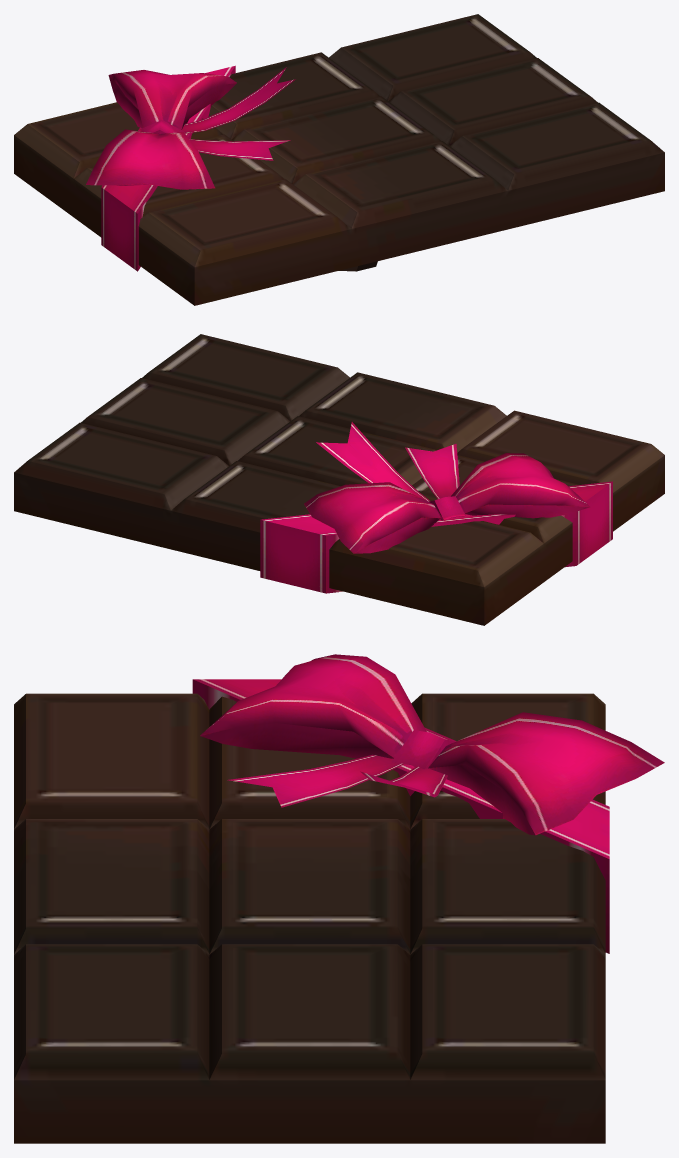
The model's file is shield0079.fbx.
3 views of the same model, one above another, from view 1: azimuth 30°, elevation 25°; view 2: azimuth 150°, elevation 25°; view 3: azimuth 270°, elevation 25° (orthographic). The views are drawn at different scales.
Visible parts, largest first — view 1: shield079; view 2: shield079; view 3: shield079.
Boxes of the visible parts, bbox=[...] form: shield079: bbox=[14, 14, 664, 305]; shield079: bbox=[14, 334, 664, 625]; shield079: bbox=[14, 654, 664, 1143].
Bounding box in the file's own units: 0.4931 × 0.1783 × 0.3481.
